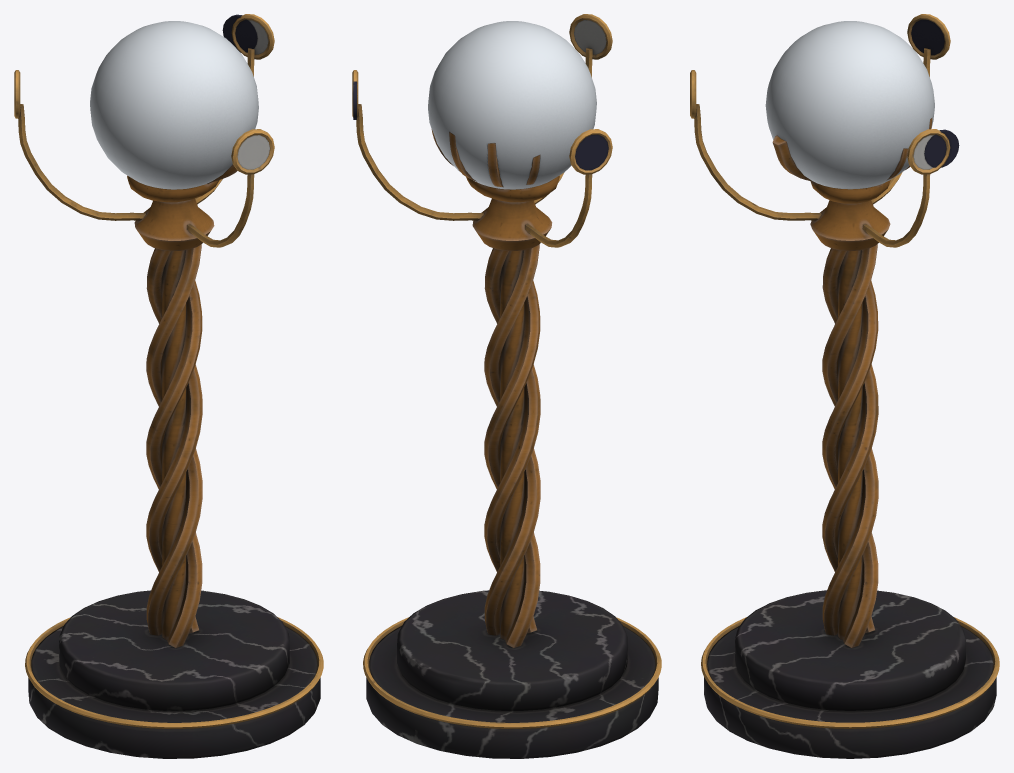
Rendered from ScryingOrbStand.fbx.
3 views of the same model, side by side, from view 1: azimuth 30°, elevation 25°; view 2: azimuth 150°, elevation 25°; view 3: azimuth 270°, elevation 25° (orthographic).
Parts seen in each view (by area): view 1: ScryingOrbStand_Main, ScryingOrbStand_Glass; view 2: ScryingOrbStand_Main, ScryingOrbStand_Glass; view 3: ScryingOrbStand_Main, ScryingOrbStand_Glass.
Part boxes in pixels (x1,y1,x2,y2): ScryingOrbStand_Main: (14, 14, 323, 758); ScryingOrbStand_Glass: (90, 21, 258, 189); ScryingOrbStand_Main: (352, 14, 661, 758); ScryingOrbStand_Glass: (428, 21, 596, 189); ScryingOrbStand_Main: (690, 14, 999, 758); ScryingOrbStand_Glass: (765, 21, 934, 189).
Bounding box in the file's own units: 194 × 480 × 201.
